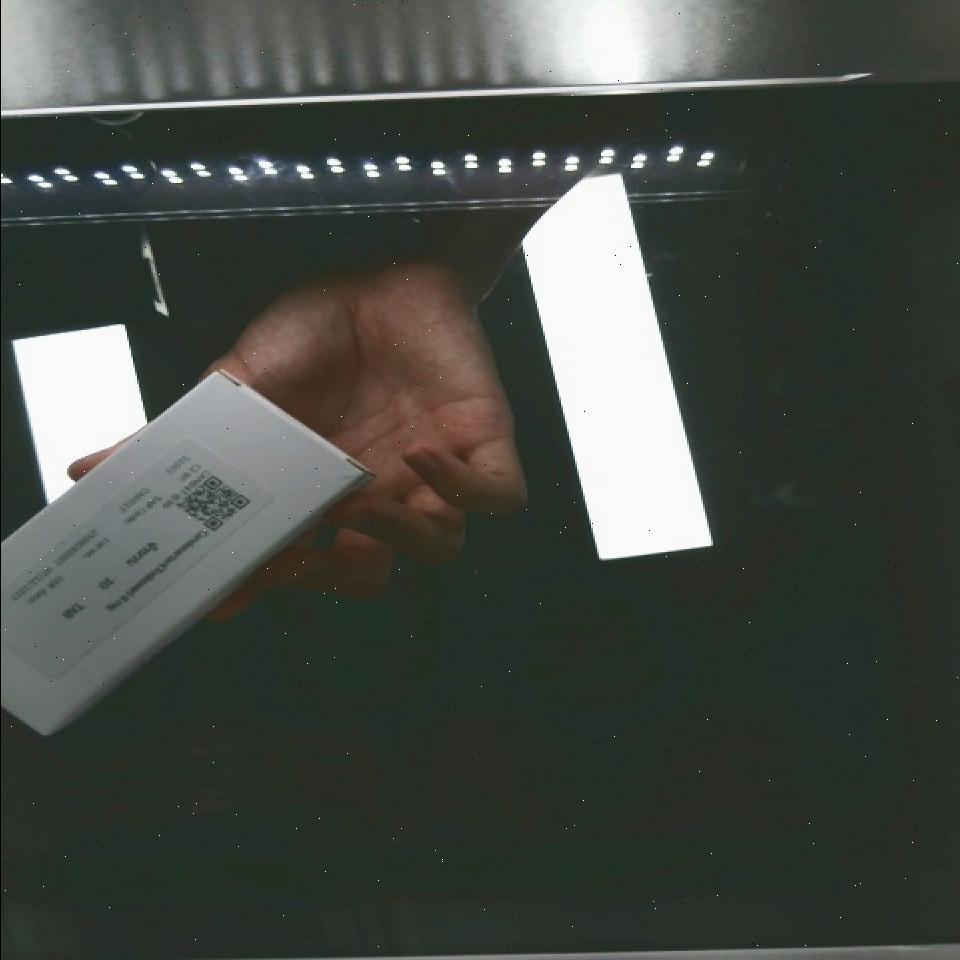medicine_box: (0, 340, 360, 741)
qr_code: (142, 437, 276, 568)
